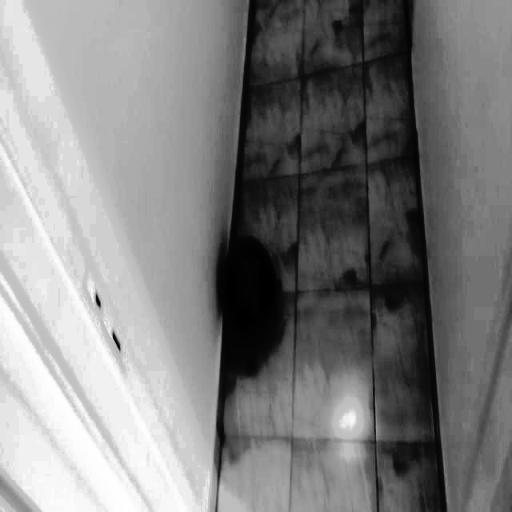balloon: (214, 226, 289, 344)
